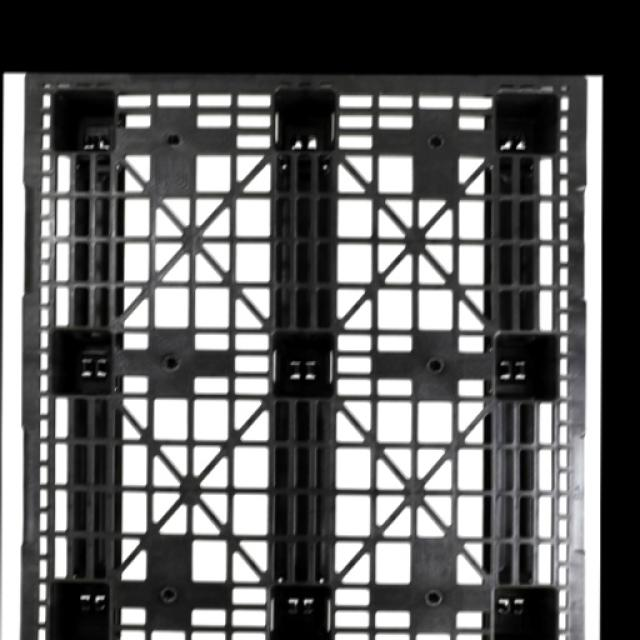non-igps: (12, 66, 592, 640)
